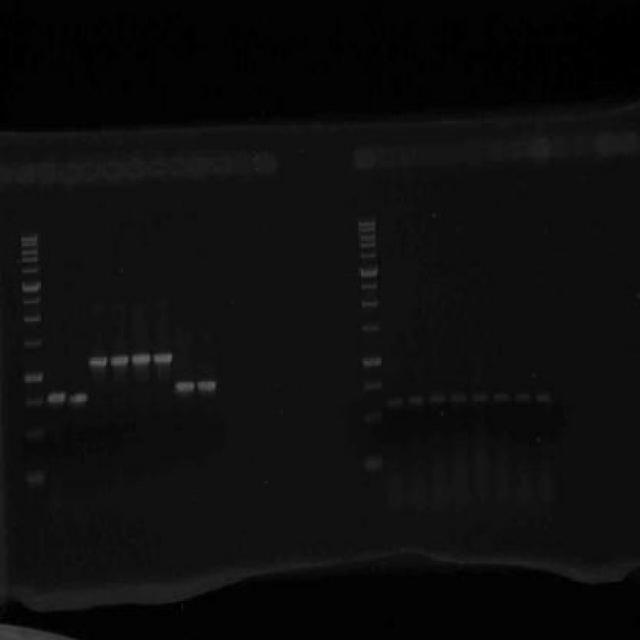B: (44, 388, 68, 407), (173, 378, 196, 396), (130, 349, 152, 366), (448, 388, 467, 407), (153, 350, 174, 367), (534, 390, 554, 407), (426, 390, 446, 407), (69, 390, 89, 407), (513, 388, 533, 404), (406, 393, 426, 409), (108, 354, 130, 368), (468, 390, 490, 404), (384, 394, 406, 408), (88, 354, 108, 369), (197, 377, 217, 392), (492, 390, 512, 404)
L: (347, 128, 640, 174), (11, 146, 282, 192)
M: (14, 229, 52, 494), (354, 211, 390, 480)
P: (359, 450, 384, 472), (23, 467, 45, 487), (361, 410, 384, 428), (20, 278, 42, 294), (24, 424, 44, 441), (23, 393, 43, 409), (23, 368, 43, 384), (360, 356, 382, 370), (358, 264, 380, 278), (360, 380, 382, 392), (360, 321, 380, 334), (22, 336, 41, 349), (22, 312, 41, 325), (19, 264, 39, 276), (21, 296, 41, 306), (19, 254, 39, 264), (19, 232, 39, 242), (359, 298, 379, 308), (356, 251, 378, 260), (358, 281, 378, 290), (19, 247, 39, 255), (357, 219, 377, 227), (358, 242, 376, 250), (358, 232, 376, 240), (358, 227, 376, 233), (20, 242, 40, 246)
Pc: (526, 132, 552, 162), (400, 140, 426, 169), (254, 148, 280, 177), (13, 152, 35, 185), (482, 131, 504, 164), (552, 128, 574, 161), (444, 134, 464, 170), (574, 130, 596, 162), (352, 140, 376, 169), (232, 148, 255, 178), (188, 152, 212, 180), (597, 130, 620, 159), (506, 132, 526, 165), (123, 155, 146, 183), (426, 138, 446, 170), (212, 151, 234, 180), (376, 140, 398, 169), (58, 158, 80, 186), (465, 135, 483, 168), (37, 157, 57, 186), (620, 130, 640, 159), (80, 158, 102, 184), (102, 156, 124, 182), (146, 156, 168, 182), (167, 152, 187, 180)
